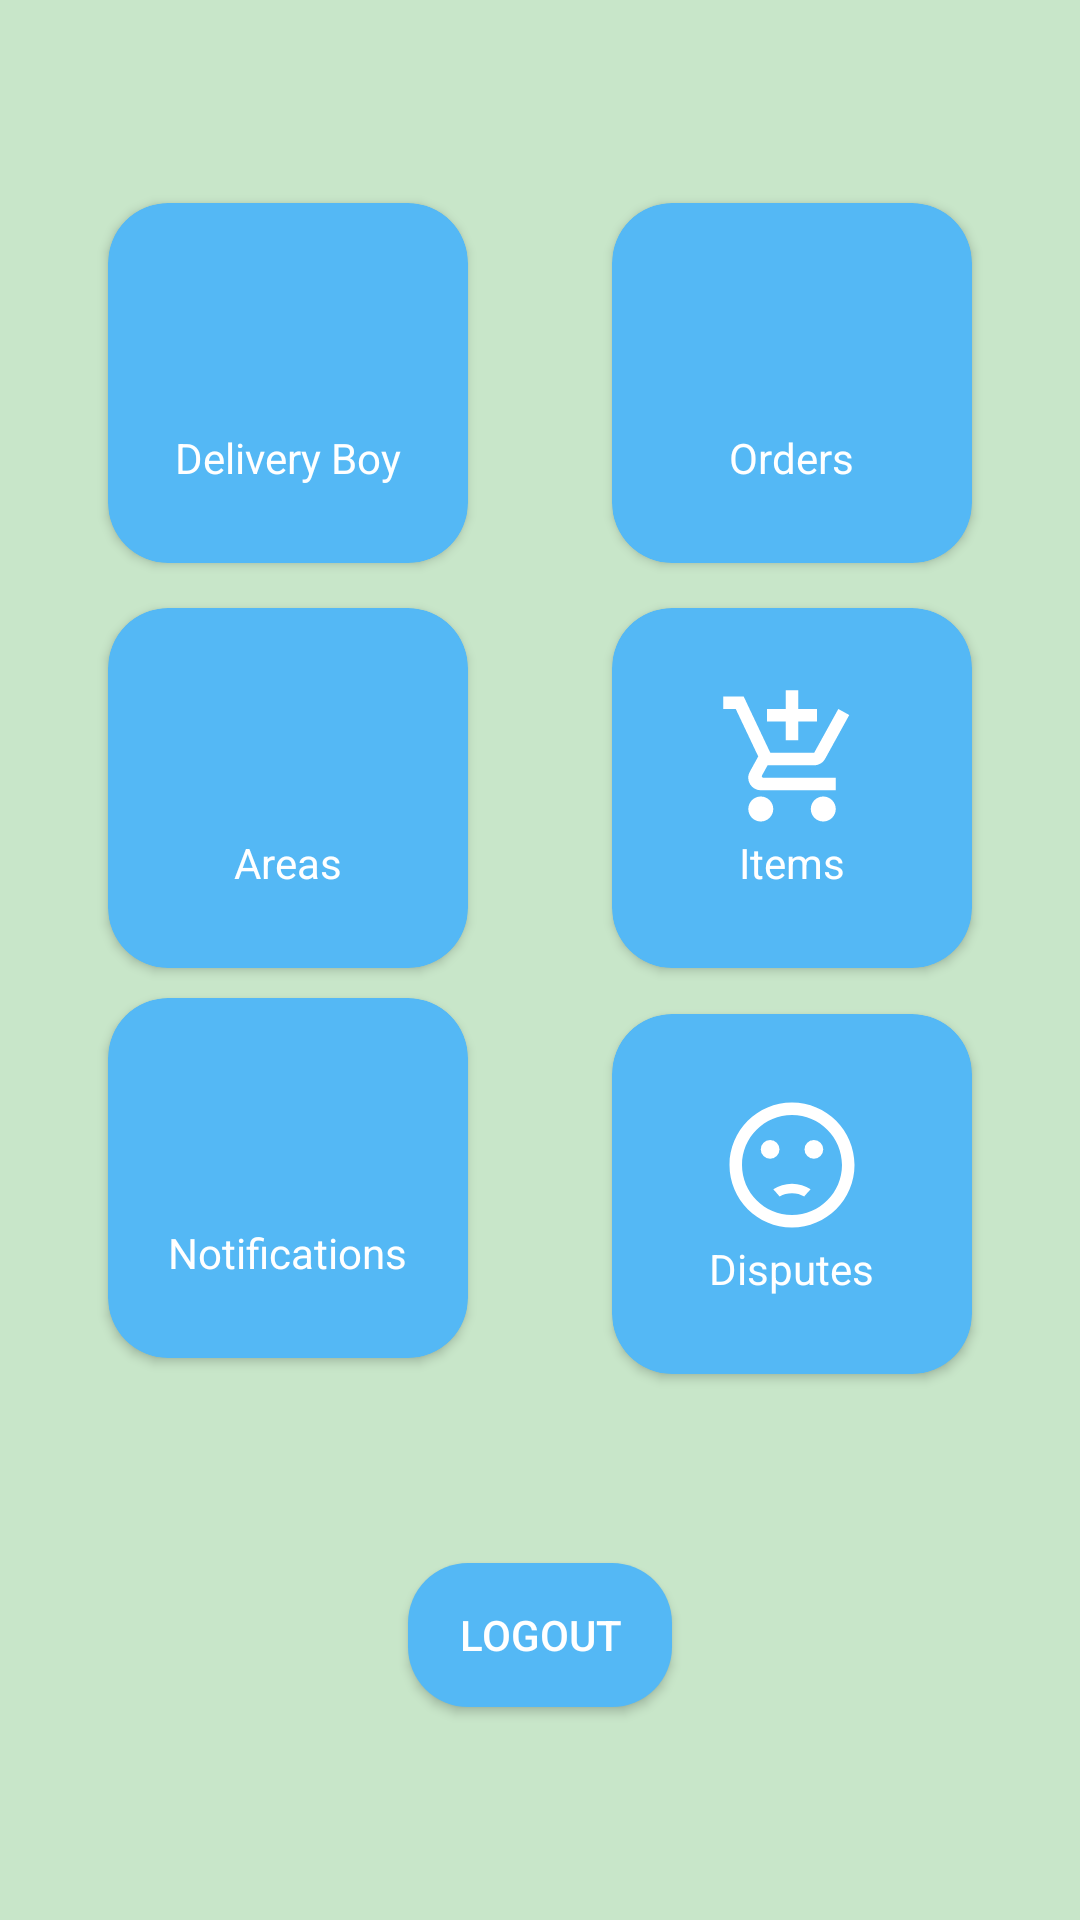

Point at icon controls on the screen. Image size 1080px×1920px, points as point (x, y).
add shopping cart: point (786, 756)
sentiment dissatisfied: point (792, 1165)
